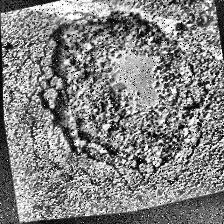pothole: (27, 0, 198, 190), (142, 0, 218, 46)
